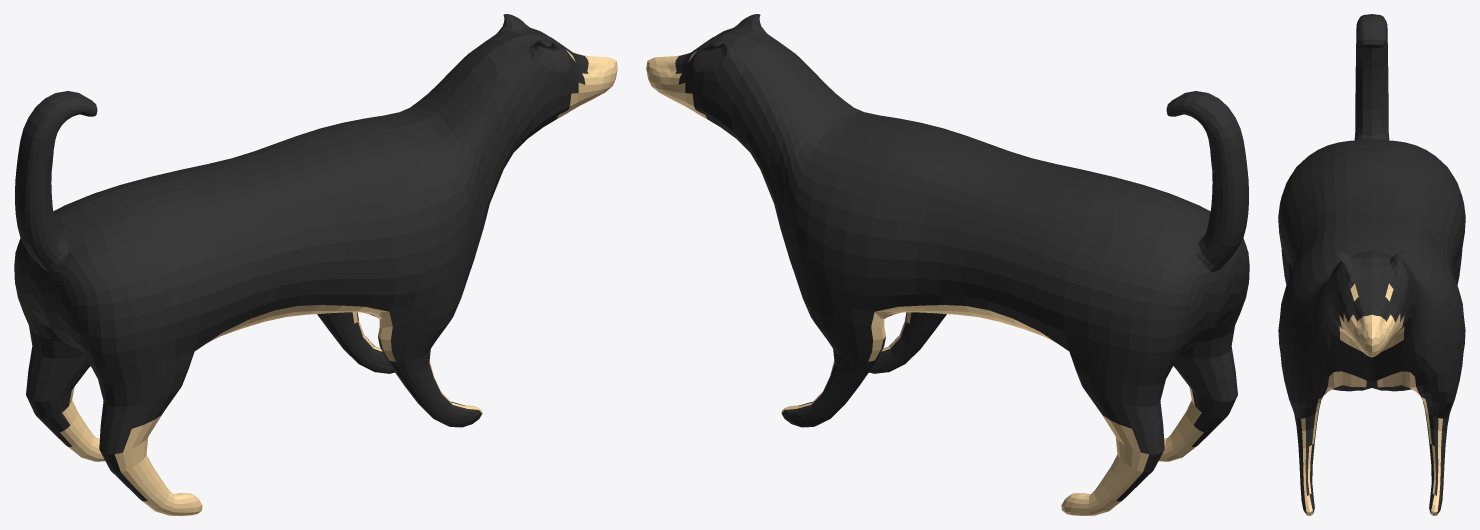
Rendered from JoyDog.glb.
The picture shows the model from 3 angles, left to right: view 1: azimuth 30°, elevation 25°; view 2: azimuth 150°, elevation 25°; view 3: azimuth 270°, elevation 25°; orthographic projection. The views are drawn at different scales.
Parts seen in each view (by area): view 1: Dog Body.004; view 2: Dog Body.004; view 3: Dog Body.004.
Boxes of the visible parts, x1,y1,x2,y2 form: Dog Body.004: (14, 14, 617, 515); Dog Body.004: (646, 14, 1249, 515); Dog Body.004: (1278, 14, 1465, 515).
Bounding box in the file's own units: 11.73 × 7.77 × 3.67.
